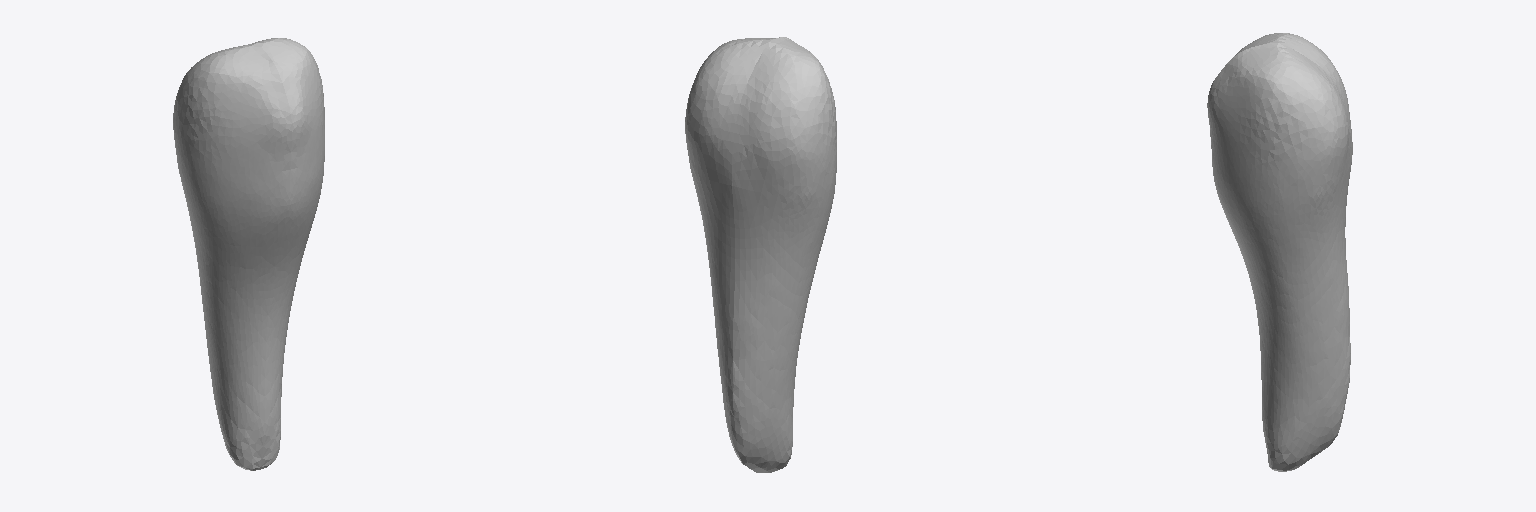
Rendered from calf.obj.
3 views of the same model, side by side, from view 1: azimuth 30°, elevation 25°; view 2: azimuth 150°, elevation 25°; view 3: azimuth 270°, elevation 25° (orthographic).
Size of the model in its own units: 2.9 by 8.82 by 2.72.